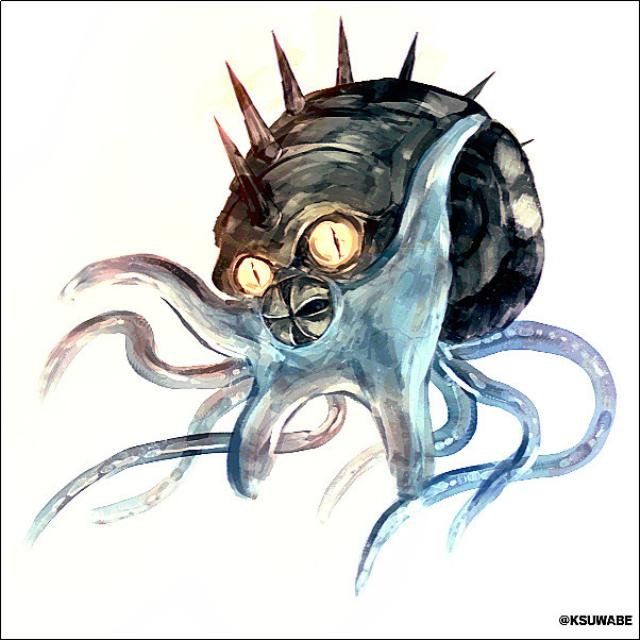Omastar: (131, 80, 554, 517)
